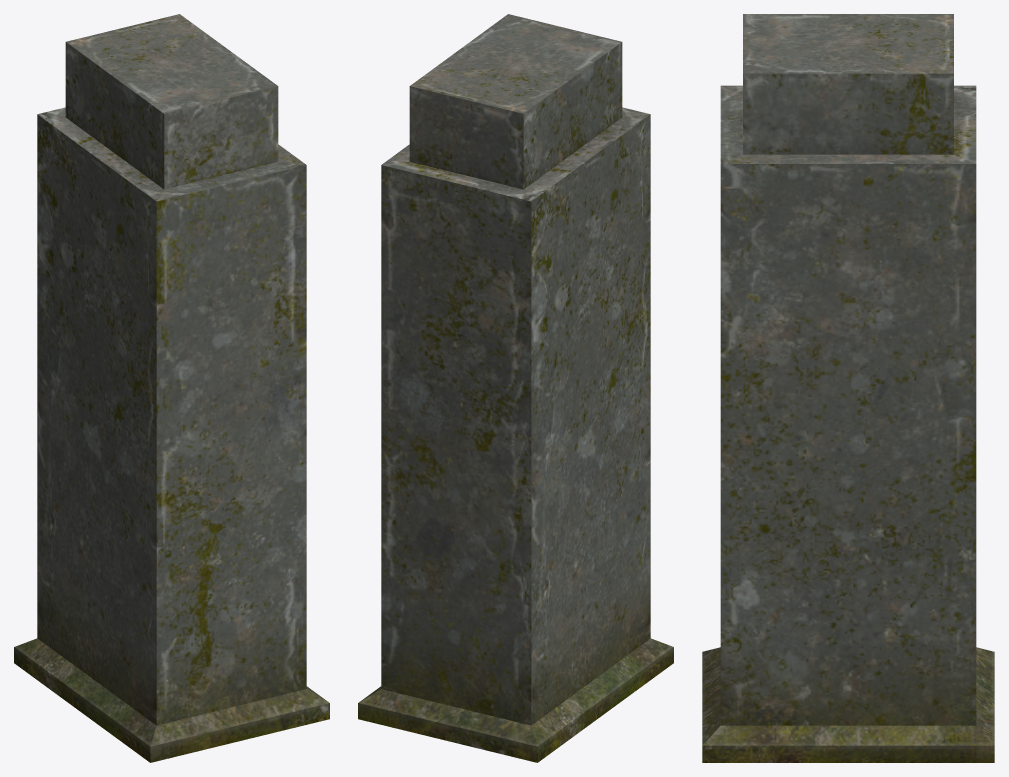
File: SM_Kit_Tile_Stone_Barrier_A_Column1.fbx
3 views of the same model, side by side, from view 1: azimuth 30°, elevation 25°; view 2: azimuth 150°, elevation 25°; view 3: azimuth 270°, elevation 25° (orthographic). The views are drawn at different scales.
Parts seen in each view (by area): view 1: SM_Kit_Tile_Stone_Barrier_A_Column1_LOD0; view 2: SM_Kit_Tile_Stone_Barrier_A_Column1_LOD0; view 3: SM_Kit_Tile_Stone_Barrier_A_Column1_LOD0.
Boxes of the visible parts, box(x1,y1,x2,y2) form: SM_Kit_Tile_Stone_Barrier_A_Column1_LOD0: box(14, 14, 329, 762); SM_Kit_Tile_Stone_Barrier_A_Column1_LOD0: box(358, 14, 673, 762); SM_Kit_Tile_Stone_Barrier_A_Column1_LOD0: box(702, 14, 994, 762).
Size of the model in its own units: 42.62 by 56.06 by 142.
Materials: 1 (1 with a texture image).
